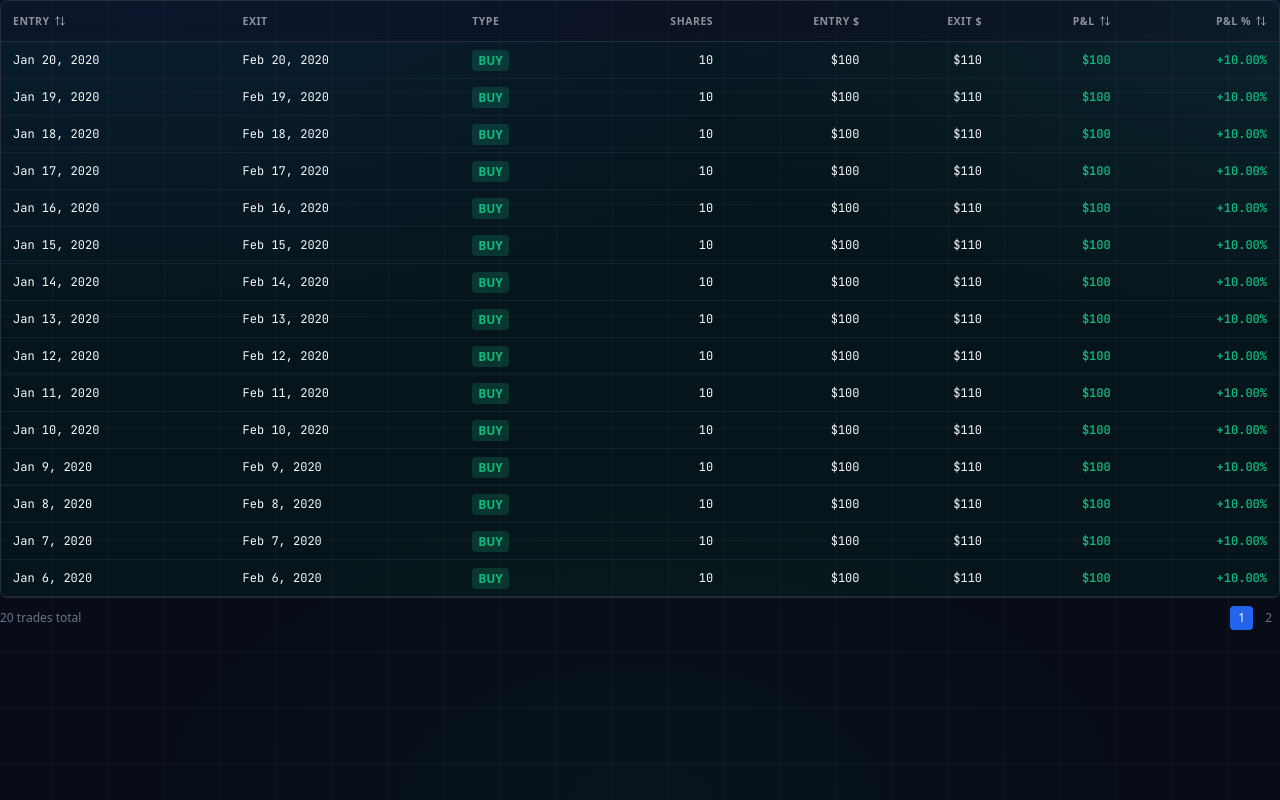
TradeTable › resets to page 0 when the trades prop changes to a shorter list
Click the button "2".
click(1269, 618)  # box top-left (1257, 606), bottom-right (1279, 630)
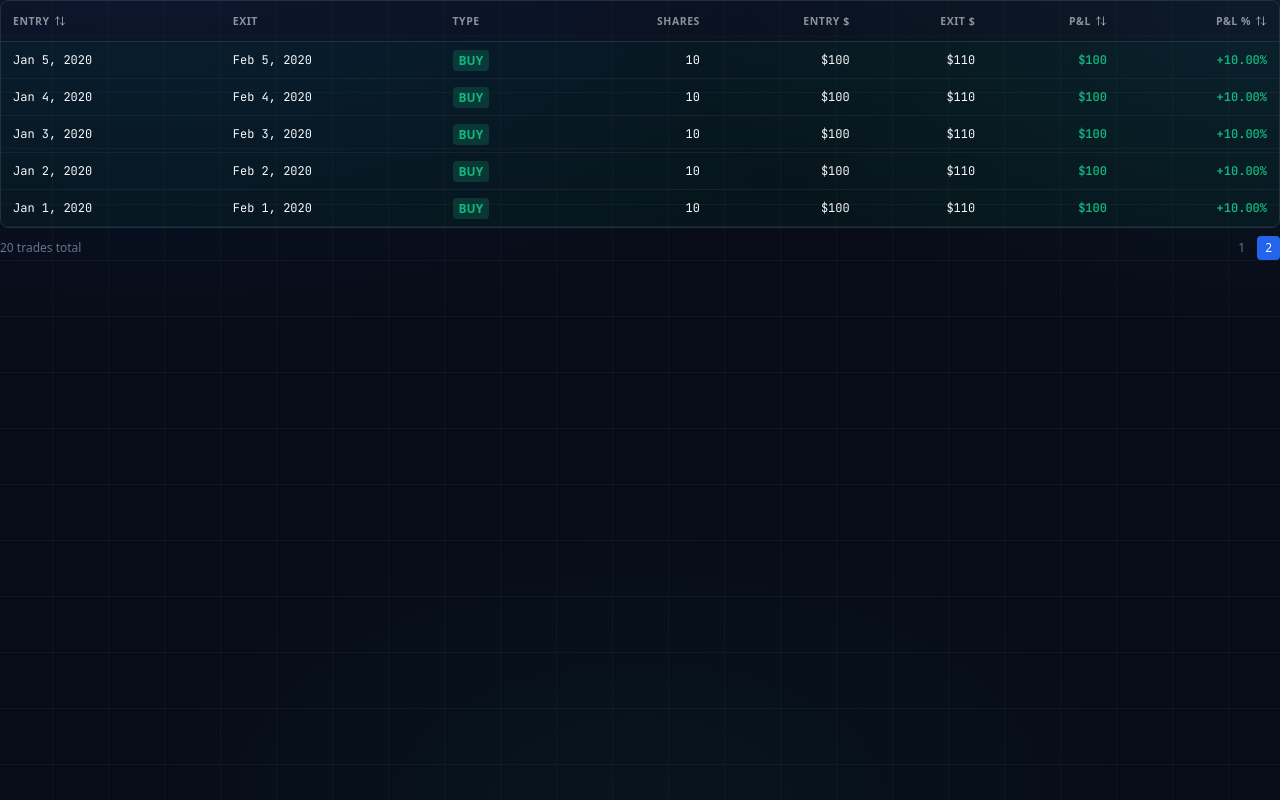
Expected: the number of rows is 6, top-left (1, 1), bottom-right (1279, 42); top-left (1, 42), bottom-right (1279, 78); top-left (1, 78), bottom-right (1279, 116); top-left (1, 116), bottom-right (1279, 152); top-left (1, 152), bottom-right (1279, 190); top-left (1, 190), bottom-right (1279, 226)
